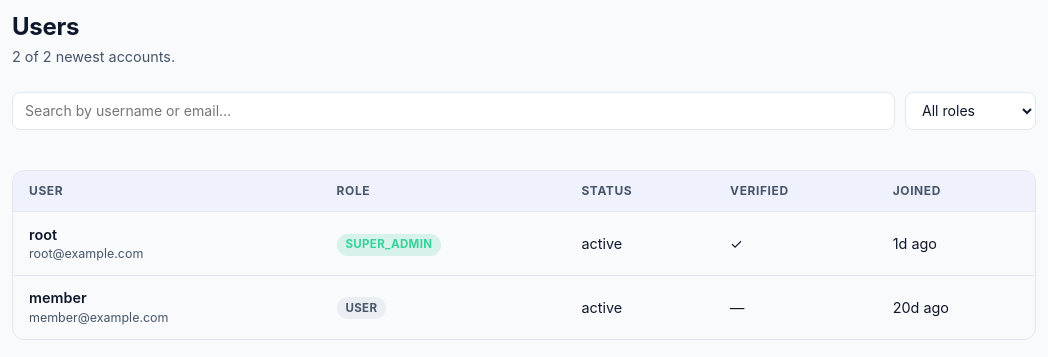
Test: AdminUsersPage › filters the directory by search query
The image size is (1048, 357).
Type "member" into the search field named "Search users".
click(454, 111); type("member")  # box [12,92,895,130]
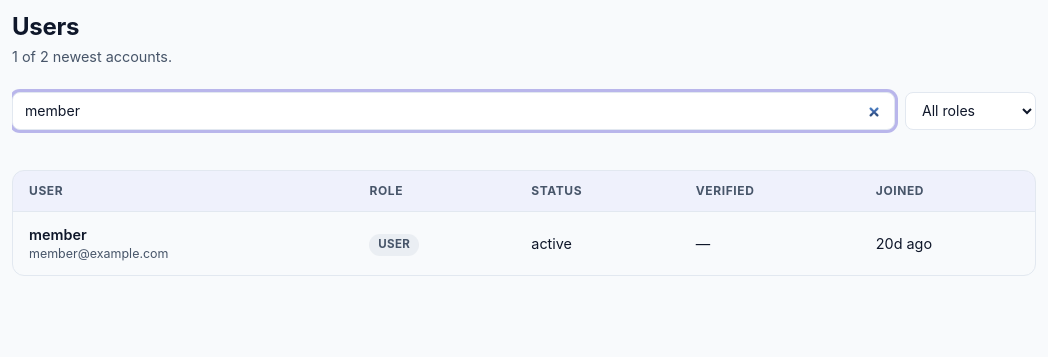
Check: the text "member@example.com" is shown, box [29,246,168,261]
Check: the text "root@example.com" is gone
Check: the text "1 of 2 newest accounts." is shown, box [12,48,172,65]
